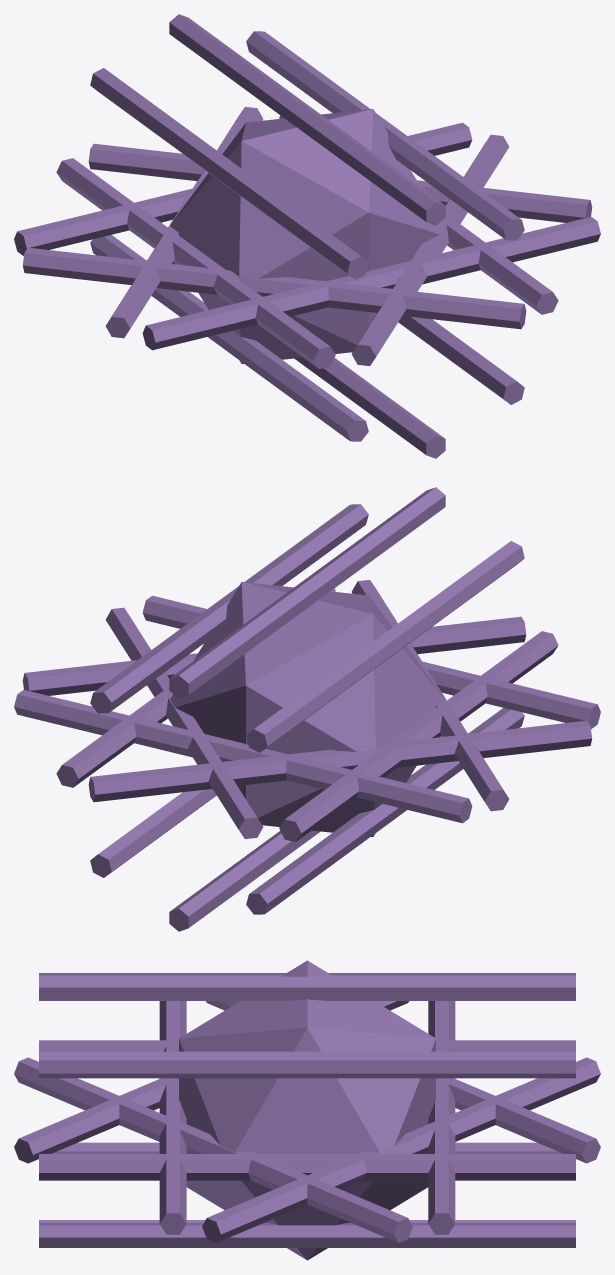
The model's file is sea_urchin.glb.
The picture shows the model from 3 angles, top to bottom: view 1: azimuth 30°, elevation 25°; view 2: azimuth 150°, elevation 25°; view 3: azimuth 270°, elevation 25°; orthographic projection. The views are drawn at different scales.
Visible parts, largest first — view 1: world; view 2: world; view 3: world.
Boxes of the visible parts, <box> form: world: <box>14,14,600,458</box>; world: <box>14,487,600,931</box>; world: <box>14,960,600,1260</box>.
Bounding box in the file's own units: 0.874 × 0.44 × 0.874.
